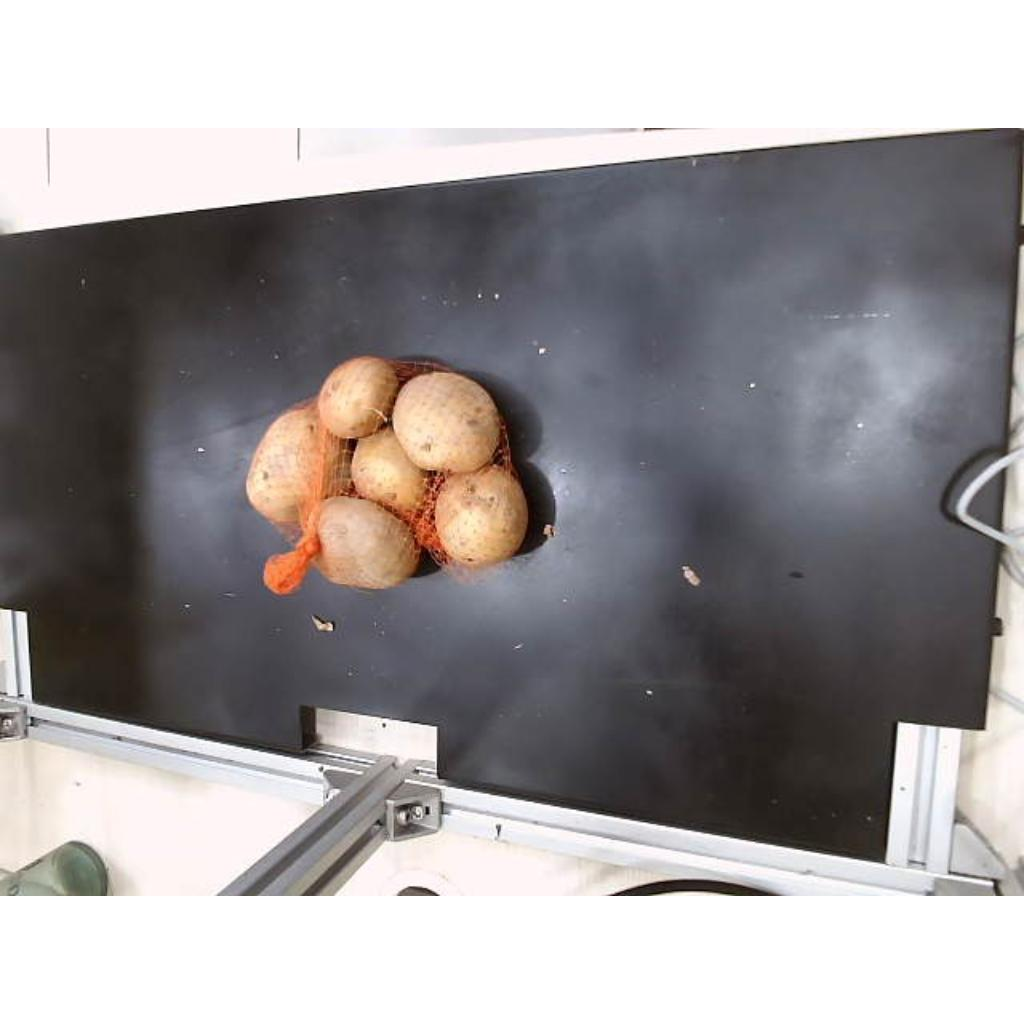potato: (392, 372, 500, 471), (314, 500, 420, 587), (436, 466, 528, 566), (246, 406, 318, 524), (318, 356, 398, 437), (350, 426, 426, 511)
